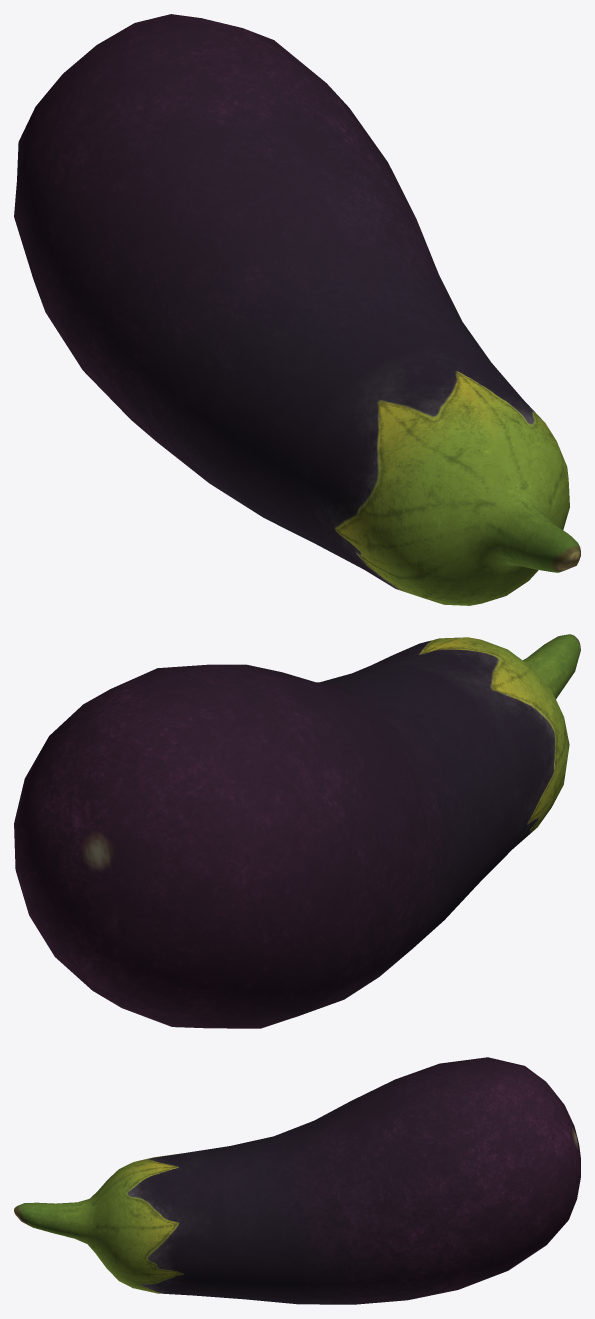
The model's file is eggplant.glb.
3 views of the same model, one above another, from view 1: azimuth 30°, elevation 25°; view 2: azimuth 150°, elevation 25°; view 3: azimuth 270°, elevation 25° (orthographic). The views are drawn at different scales.
Parts seen in each view (by area): view 1: Object_2; view 2: Object_2; view 3: Object_2.
Part boxes in pixels (bbox=[...]): Object_2: bbox=[14, 14, 580, 605]; Object_2: bbox=[14, 634, 580, 1028]; Object_2: bbox=[14, 1057, 580, 1304].
Bounding box in the file's own units: 11.85 × 13.53 × 30.29.
1 material, 1 textured.
